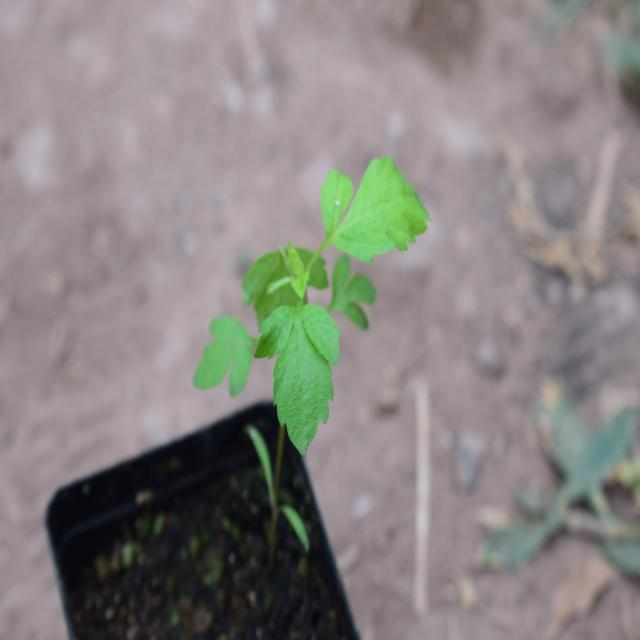Bidens pilosa: (185, 154, 434, 456)
